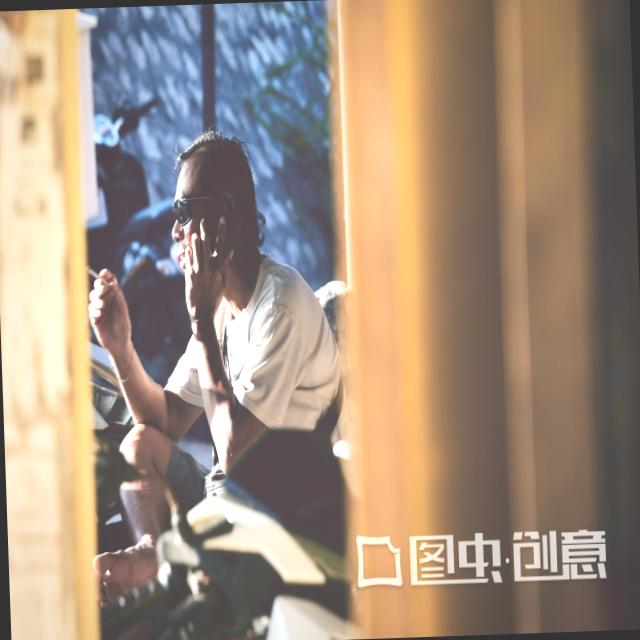cigarette: (86, 262, 112, 287)
